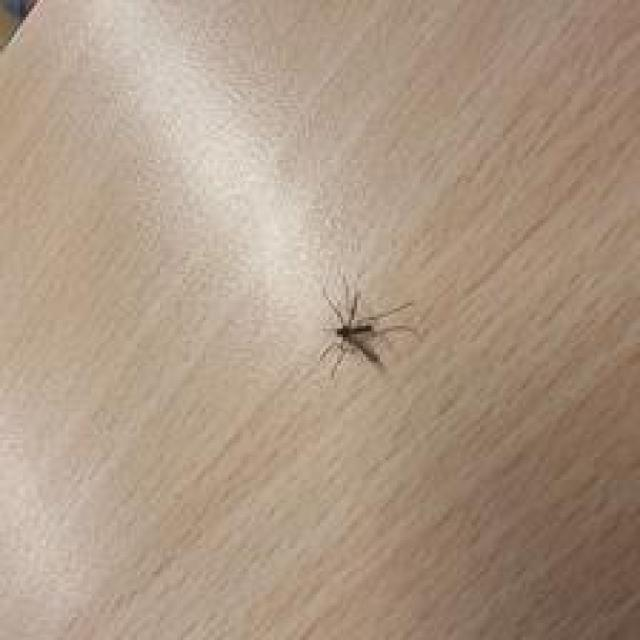Culex: (316, 274, 416, 380)
